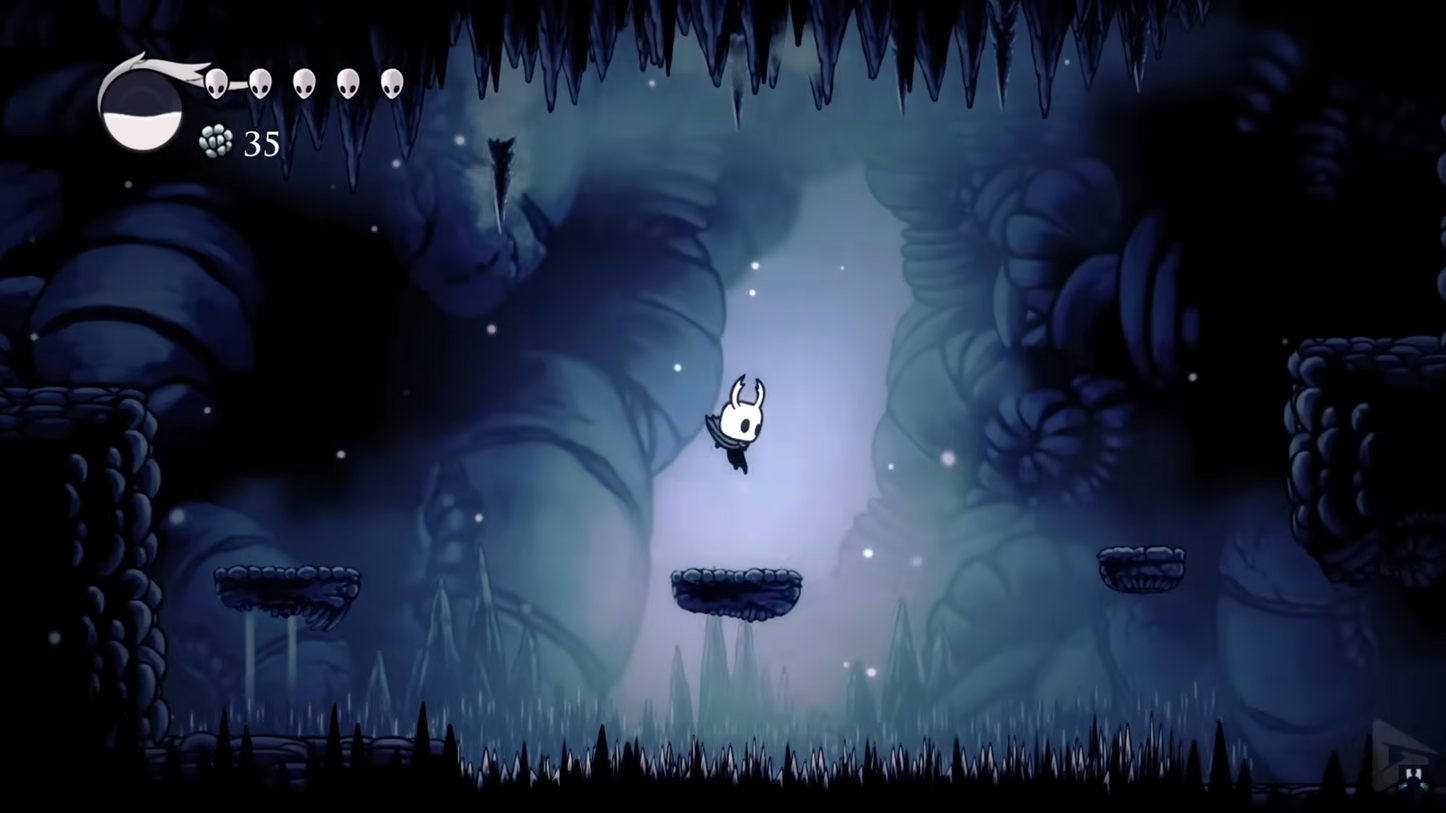HK: (706, 370, 772, 473)
